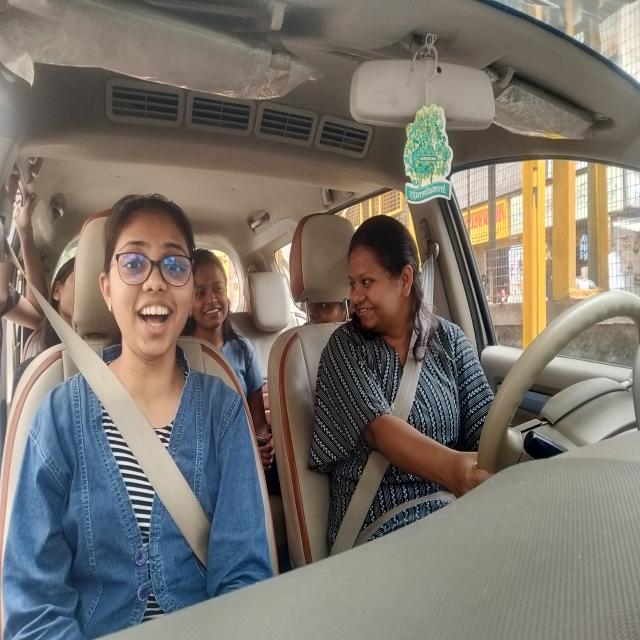LeftRight: (340, 216, 425, 334)
person: (96, 195, 198, 360), (190, 249, 237, 335), (47, 250, 77, 318), (311, 299, 346, 323)
talking: (356, 305, 376, 320)
